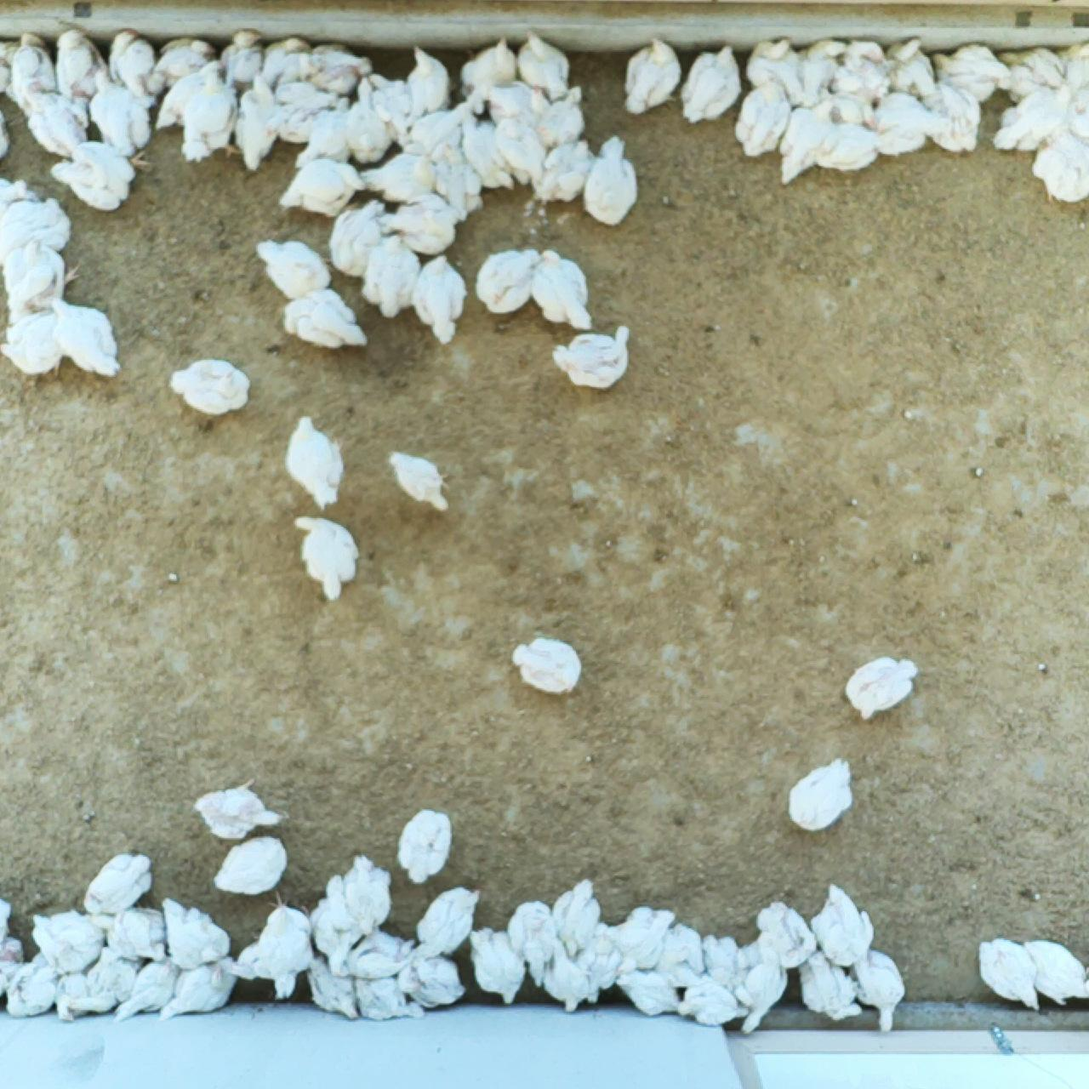chicken: (51, 137, 151, 213), (6, 235, 85, 330), (253, 895, 315, 1001), (85, 66, 155, 158), (289, 512, 362, 600), (191, 776, 286, 842), (282, 414, 346, 511), (264, 81, 356, 148), (222, 79, 284, 176), (911, 69, 981, 154), (47, 296, 119, 378), (180, 71, 241, 167), (411, 883, 484, 963), (992, 84, 1070, 158), (376, 191, 466, 255), (553, 324, 634, 395), (361, 233, 427, 320), (579, 135, 641, 227), (19, 79, 92, 157), (410, 253, 472, 344), (279, 287, 368, 350), (303, 871, 357, 974), (784, 754, 855, 832), (159, 896, 232, 971), (776, 97, 838, 185), (734, 70, 795, 159), (157, 956, 238, 1023), (814, 882, 878, 966), (30, 910, 111, 976), (679, 45, 745, 125), (0, 194, 71, 268), (167, 356, 253, 417), (254, 238, 337, 301), (280, 155, 365, 216), (341, 74, 397, 166), (532, 247, 593, 331), (796, 945, 862, 1022), (330, 195, 390, 279), (845, 654, 920, 721), (425, 141, 487, 222), (291, 94, 358, 168), (621, 39, 681, 121), (978, 934, 1041, 1012), (155, 59, 224, 130), (738, 941, 789, 1037), (0, 308, 69, 378), (475, 247, 542, 319), (848, 950, 906, 1033), (464, 926, 523, 1006), (86, 906, 167, 964), (607, 905, 676, 973), (111, 957, 181, 1024), (1021, 938, 1089, 1006), (567, 918, 620, 1005), (506, 901, 557, 991), (756, 899, 818, 973), (81, 851, 152, 915), (108, 26, 164, 107), (341, 853, 395, 937), (403, 99, 476, 161), (1031, 127, 1089, 205), (344, 964, 423, 1021), (56, 26, 110, 108), (534, 135, 597, 205), (460, 112, 518, 188), (515, 29, 576, 101), (994, 47, 1067, 107), (510, 636, 583, 696), (790, 37, 849, 111), (743, 39, 805, 109), (149, 37, 219, 99), (214, 837, 288, 895), (929, 44, 1007, 99), (367, 69, 421, 148), (611, 962, 683, 1019), (493, 114, 549, 187), (389, 452, 451, 517), (461, 34, 520, 102), (402, 807, 454, 883), (870, 89, 927, 158), (399, 950, 464, 1010), (363, 153, 438, 204), (223, 938, 304, 985), (308, 948, 360, 1021), (835, 39, 896, 101), (403, 44, 454, 118), (652, 921, 705, 992), (540, 937, 589, 1012), (556, 878, 602, 957), (345, 929, 412, 983), (811, 122, 883, 172), (676, 978, 749, 1027), (882, 37, 937, 99), (309, 43, 375, 94), (537, 84, 588, 149), (56, 973, 115, 1028), (486, 81, 542, 138), (10, 43, 58, 109), (0, 32, 50, 94), (86, 944, 138, 1003), (696, 929, 744, 992), (256, 33, 314, 85), (9, 958, 56, 1022), (817, 86, 878, 133), (220, 25, 263, 90), (1051, 83, 1089, 149), (257, 52, 316, 94), (0, 170, 34, 239), (1058, 41, 1089, 105), (0, 936, 28, 985), (0, 961, 27, 1007), (0, 100, 14, 166), (0, 894, 10, 956)
